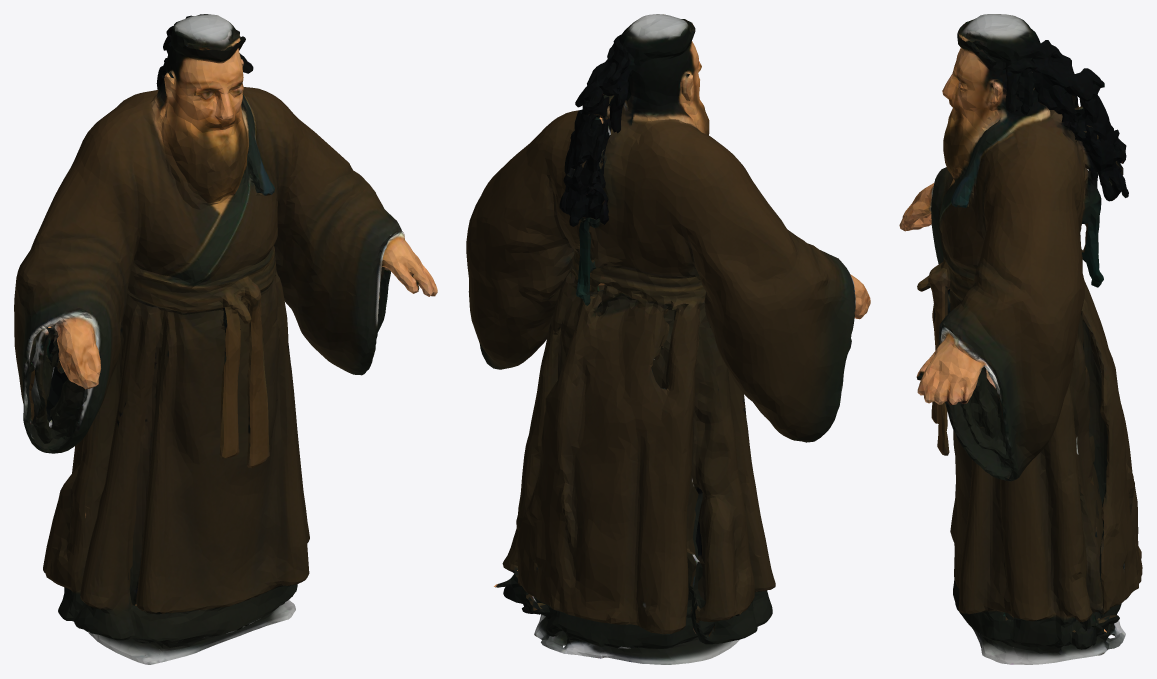
The picture shows the model from 3 angles, left to right: view 1: azimuth 30°, elevation 25°; view 2: azimuth 150°, elevation 25°; view 3: azimuth 270°, elevation 25°; orthographic projection. The views are drawn at different scales.
Parts seen in each view (by area): view 1: tmpvxwe_5z9.ply; view 2: tmpvxwe_5z9.ply; view 3: tmpvxwe_5z9.ply.
Boxes of the visible parts, x1,y1,x2,y2 form: tmpvxwe_5z9.ply: [14, 14, 437, 664]; tmpvxwe_5z9.ply: [466, 14, 870, 664]; tmpvxwe_5z9.ply: [899, 14, 1142, 664].
Bounding box in the file's own units: 1.31 × 1.95 × 0.7207.
1 material, 1 textured.
